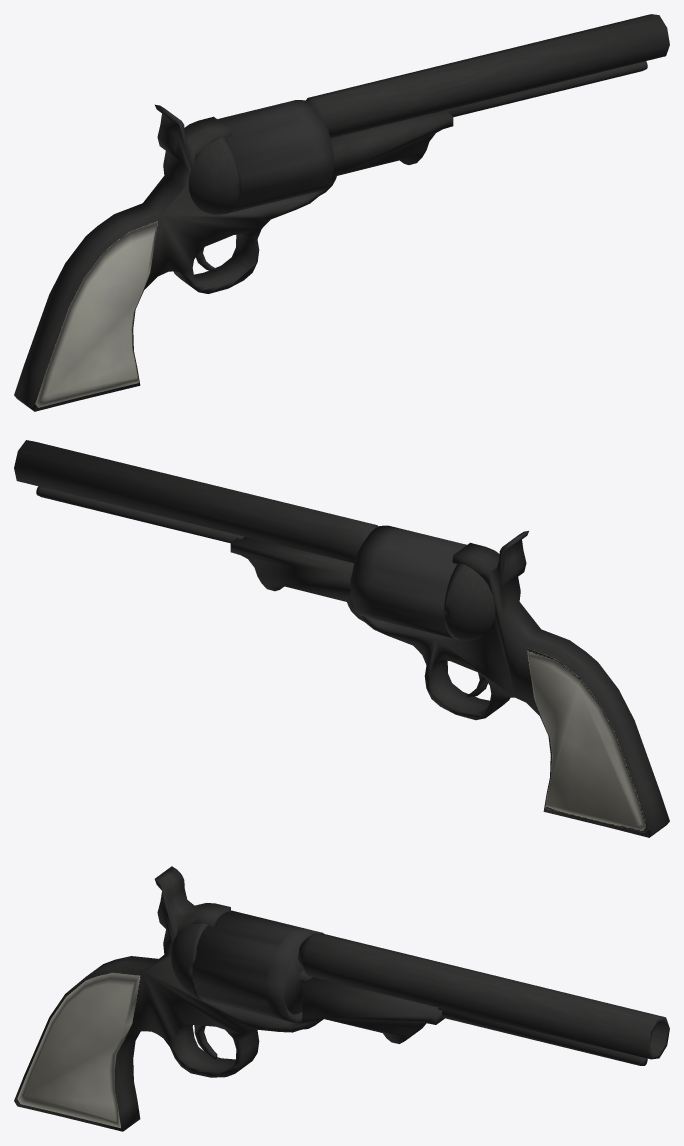
The model's file is revolver.fbx.
3 views of the same model, one above another, from view 1: azimuth 30°, elevation 25°; view 2: azimuth 150°, elevation 25°; view 3: azimuth 330°, elevation 25° (orthographic).
Parts seen in each view (by area): view 1: revolver; view 2: revolver; view 3: revolver.
Part boxes in pixels (<box>): revolver: <box>14,14,669,411</box>; revolver: <box>14,440,669,837</box>; revolver: <box>14,866,669,1131</box>.
Size of the model in its own units: 0.3835 by 0.1504 by 0.0517.
Materials: 1 (1 with a texture image).
